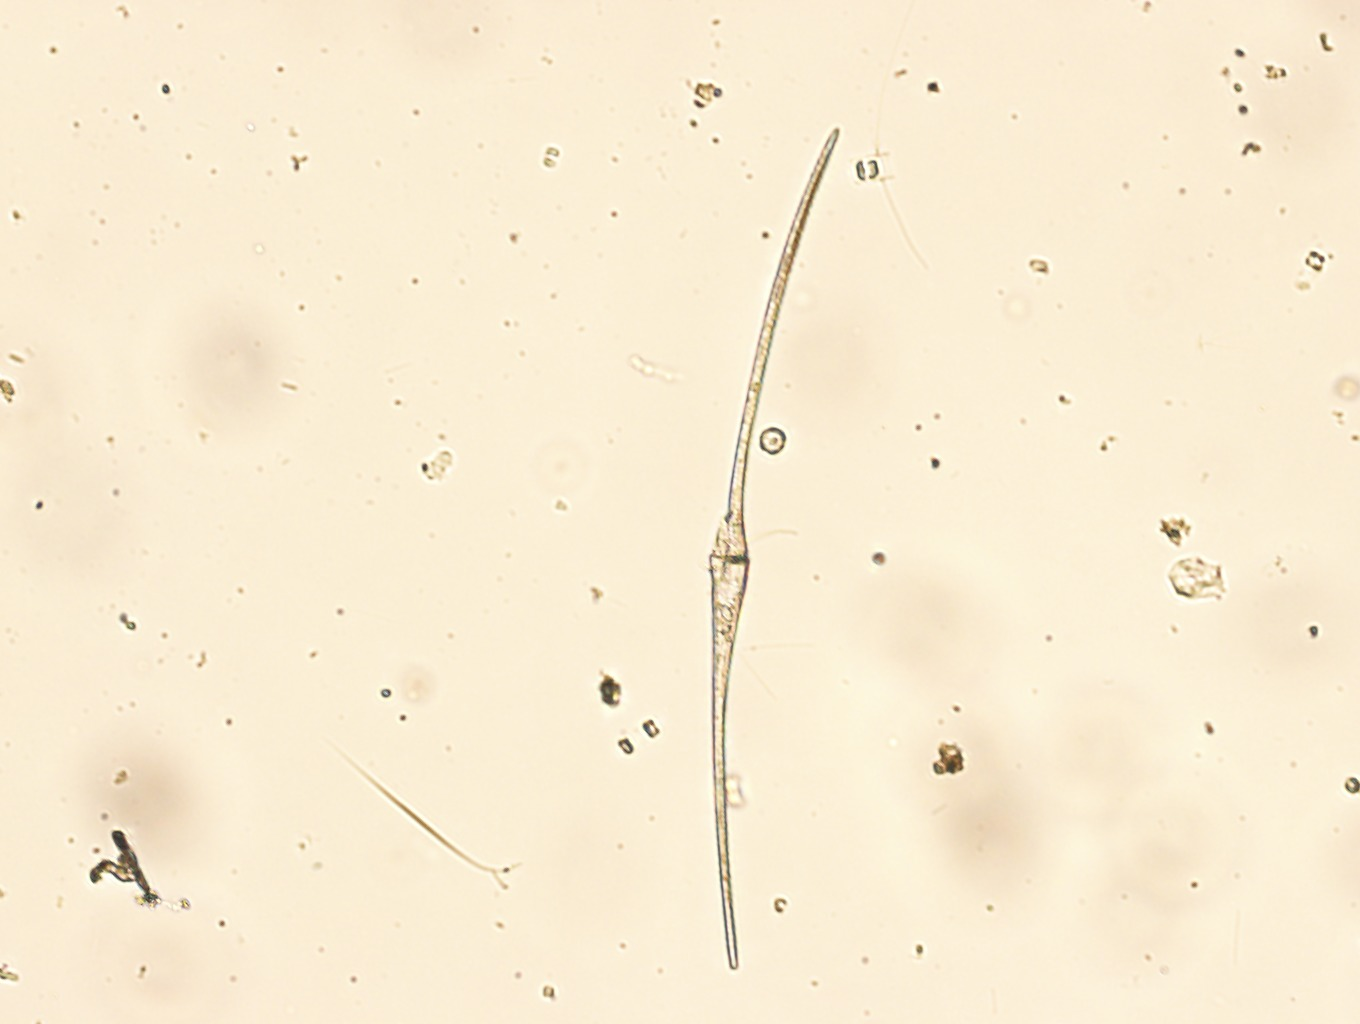ceratium fusus: (672, 127, 847, 992)
